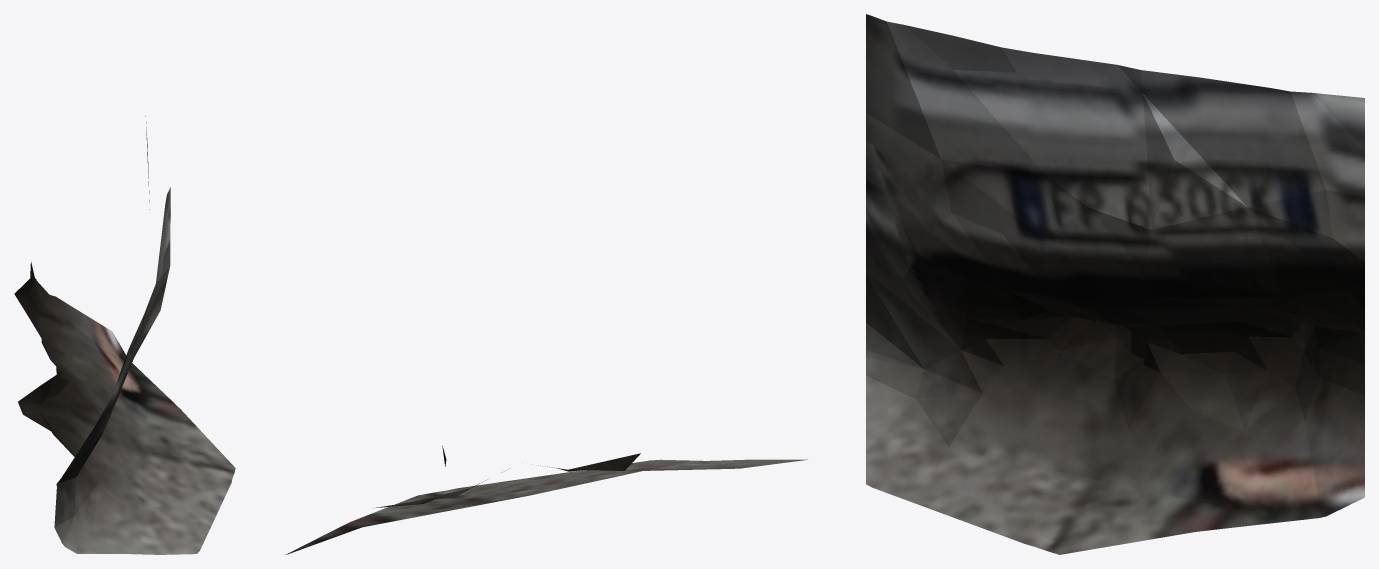
3 renders of one model, left to right at view 1: azimuth 30°, elevation 25°; view 2: azimuth 150°, elevation 25°; view 3: azimuth 270°, elevation 25°, orthographic. The views are drawn at different scales.
Bounding box in the file's own units: 0.6221 × 0.8374 × 0.8374.
3 materials, 3 textured.
